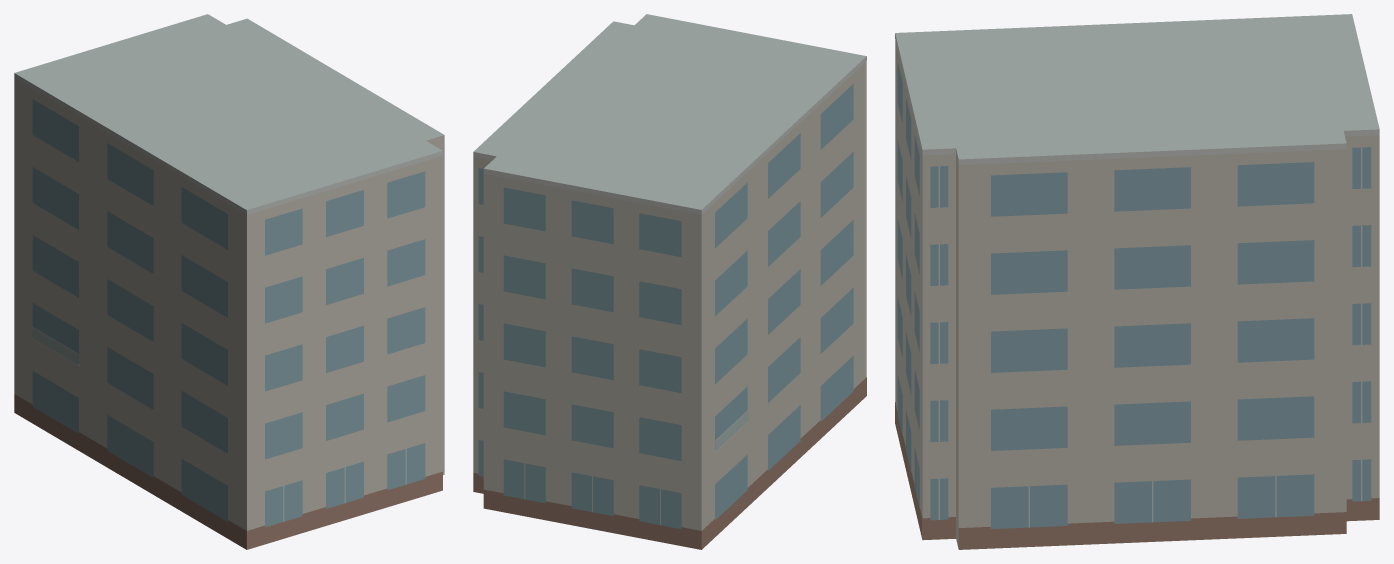
Rendered from survey-upis-32754597.glb.
3 renders of one model, left to right at view 1: azimuth 30°, elevation 25°; view 2: azimuth 150°, elevation 25°; view 3: azimuth 270°, elevation 25°, orthographic. The views are drawn at different scales.
Visible parts, largest first — view 1: survey-upis-32754597.tmp; view 2: survey-upis-32754597.tmp; view 3: survey-upis-32754597.tmp.
Part boxes in pixels (box(x1,y1,x2,y2)): survey-upis-32754597.tmp: box(14, 14, 444, 549); survey-upis-32754597.tmp: box(473, 14, 866, 549); survey-upis-32754597.tmp: box(895, 14, 1379, 549).
Bounding box in the file's own units: 13.51 × 16.9 × 19.02.
